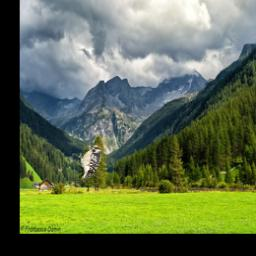Woodpecker: (77, 145, 103, 182)
